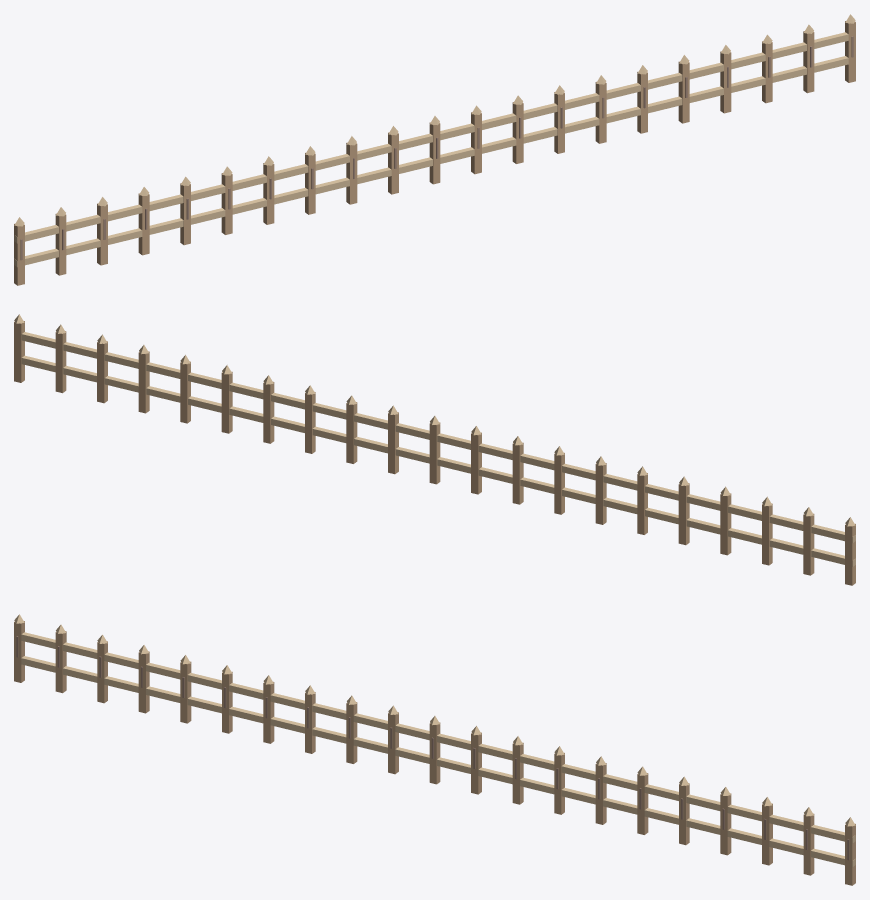
Rendered from cerca_fondo.glb.
3 renders of one model, top to bottom at view 1: azimuth 30°, elevation 25°; view 2: azimuth 150°, elevation 25°; view 3: azimuth 330°, elevation 25°, orthographic.
Parts seen in each view (by area): view 1: cerca_fondo; view 2: cerca_fondo; view 3: cerca_fondo.
Part boxes in pixels (box(x1,y1,x2,y2)): cerca_fondo: box(14, 14, 855, 285); cerca_fondo: box(14, 314, 855, 585); cerca_fondo: box(14, 614, 855, 885).
Size of the model in its own units: 22.28 by 1.69 by 0.28.
